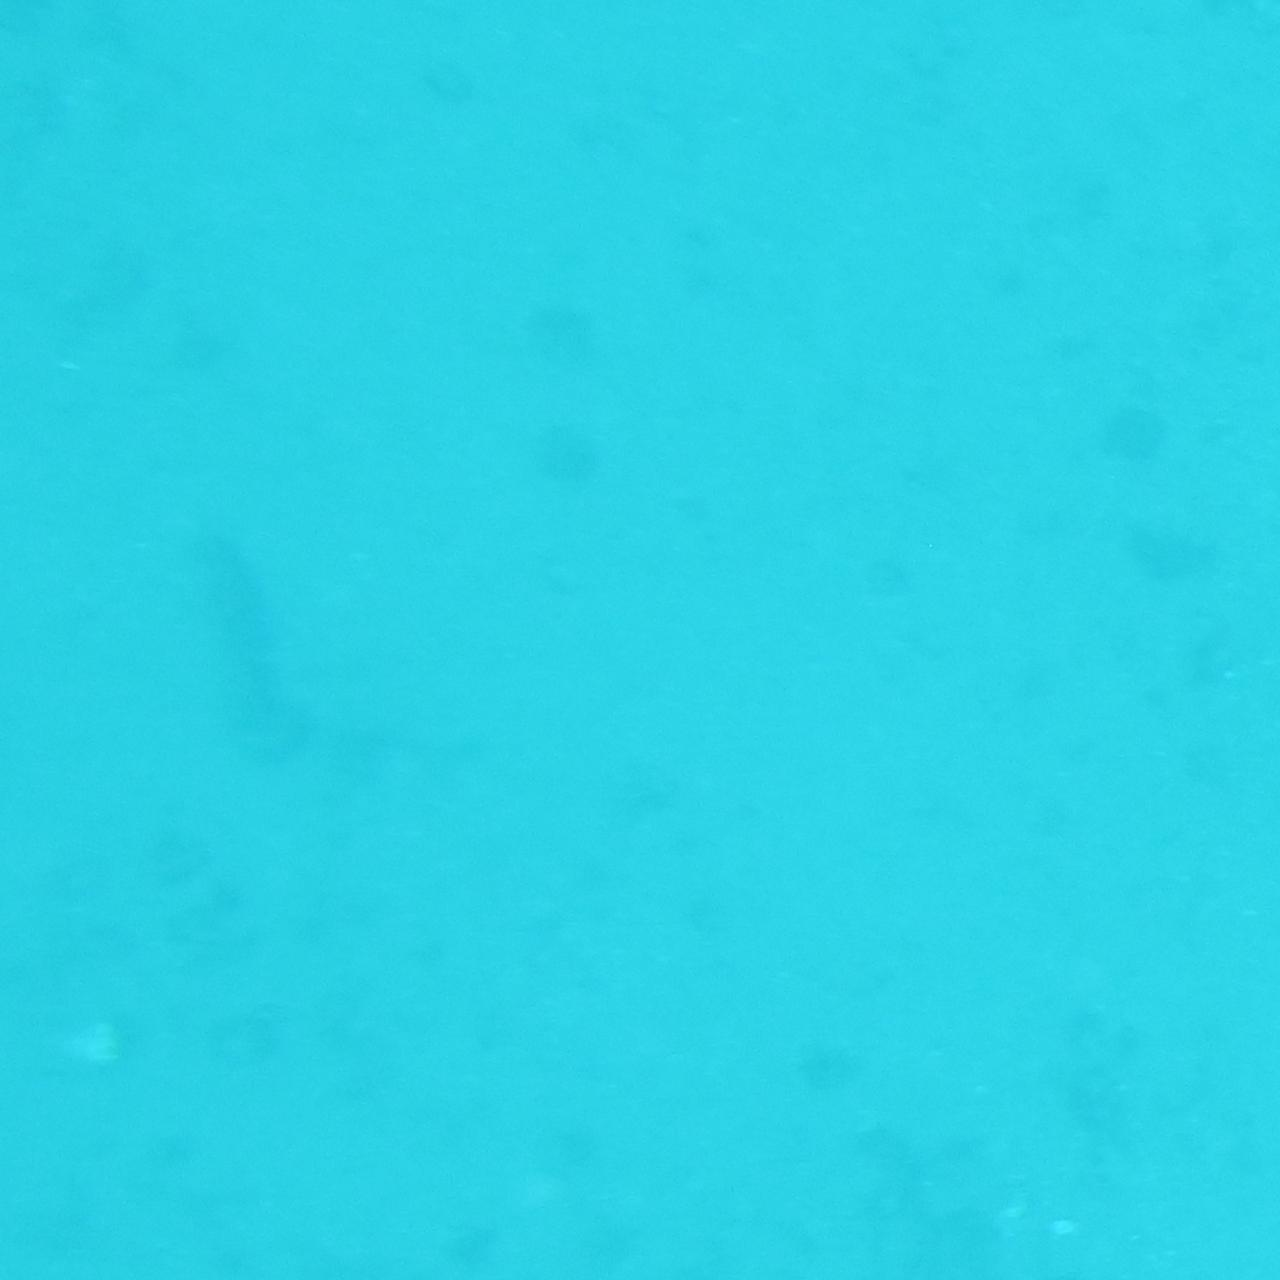Holothuria tubulosa: (180, 514, 331, 766)
